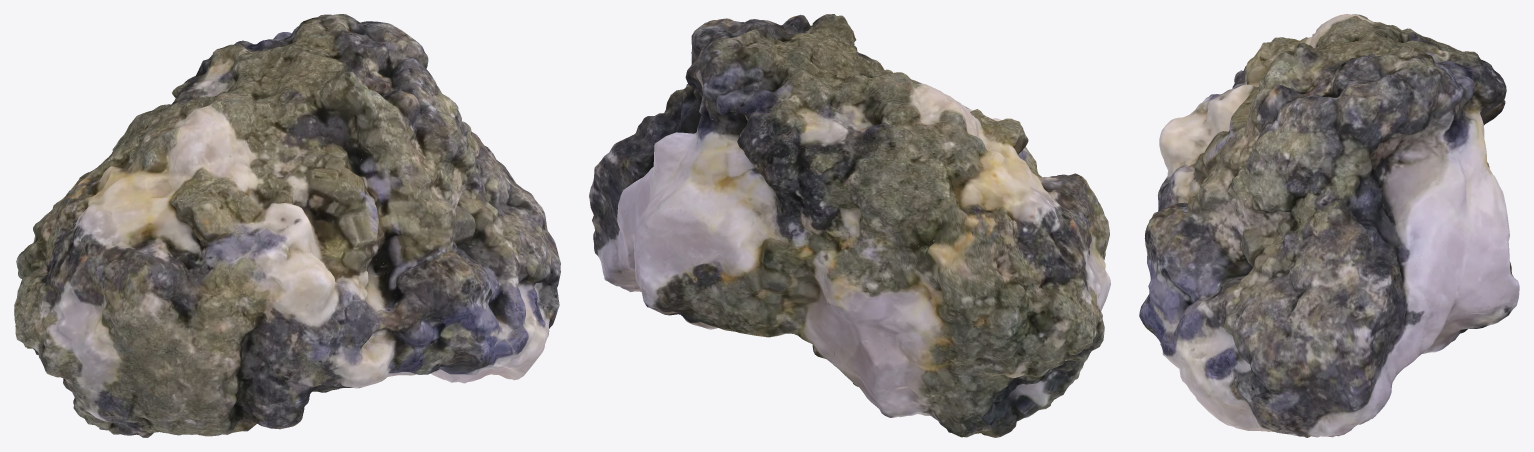
The model's file is pyrite.glb.
3 renders of one model, left to right at view 1: azimuth 30°, elevation 25°; view 2: azimuth 150°, elevation 25°; view 3: azimuth 270°, elevation 25°, orthographic. The views are drawn at different scales.
Visible parts, largest first — view 1: Object_2; view 2: Object_2; view 3: Object_2.
Boxes of the visible parts, x1,y1,x2,y2 form: Object_2: (14,14,560,437); Object_2: (589,14,1110,437); Object_2: (1139,14,1519,437).
Size of the model in its own units: 1.98 by 1.29 by 1.29.
1 material, 1 textured.
